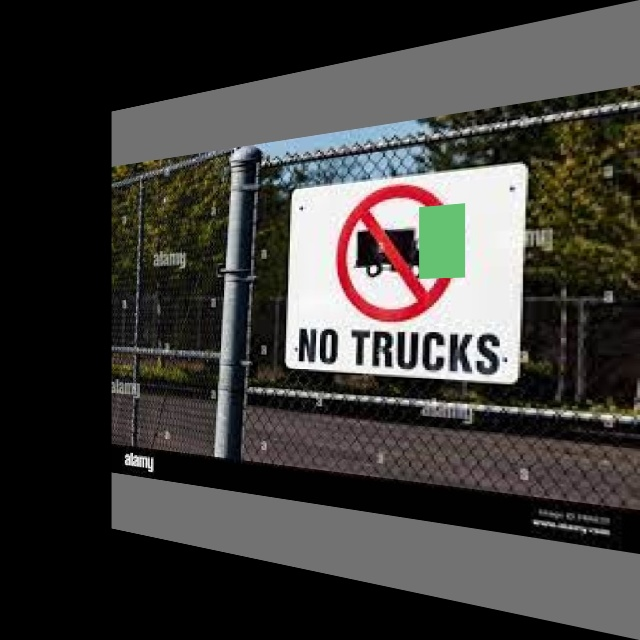Truck_Prohibited: (331, 173, 464, 326)
